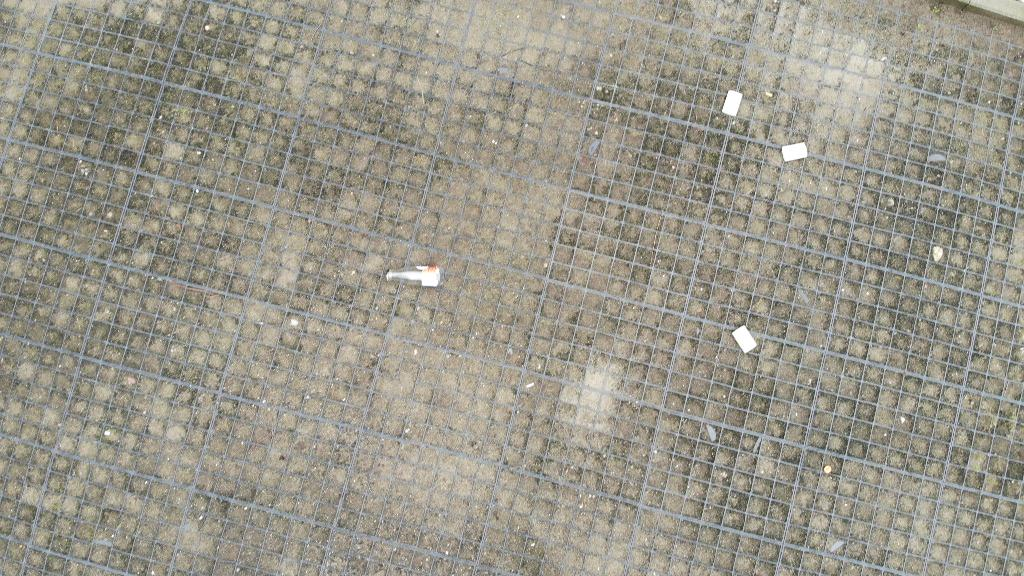garbage: (383, 261, 444, 290), (732, 322, 762, 359), (778, 140, 811, 164), (722, 87, 744, 122)
